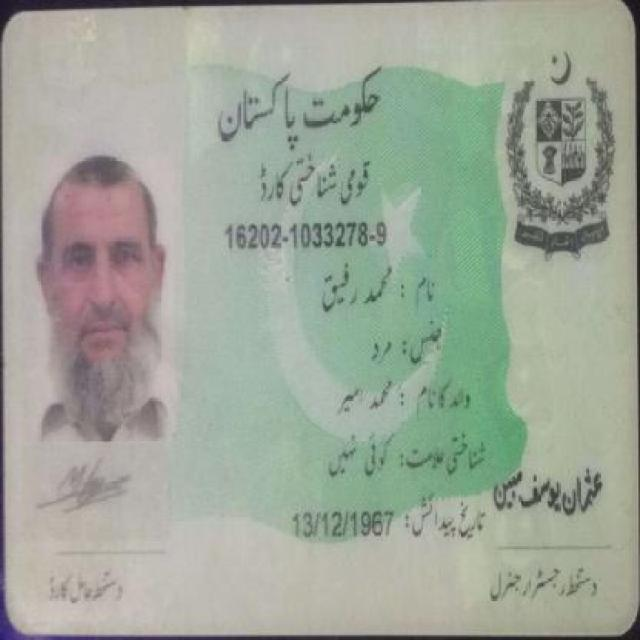Front: (9, 12, 631, 631)
